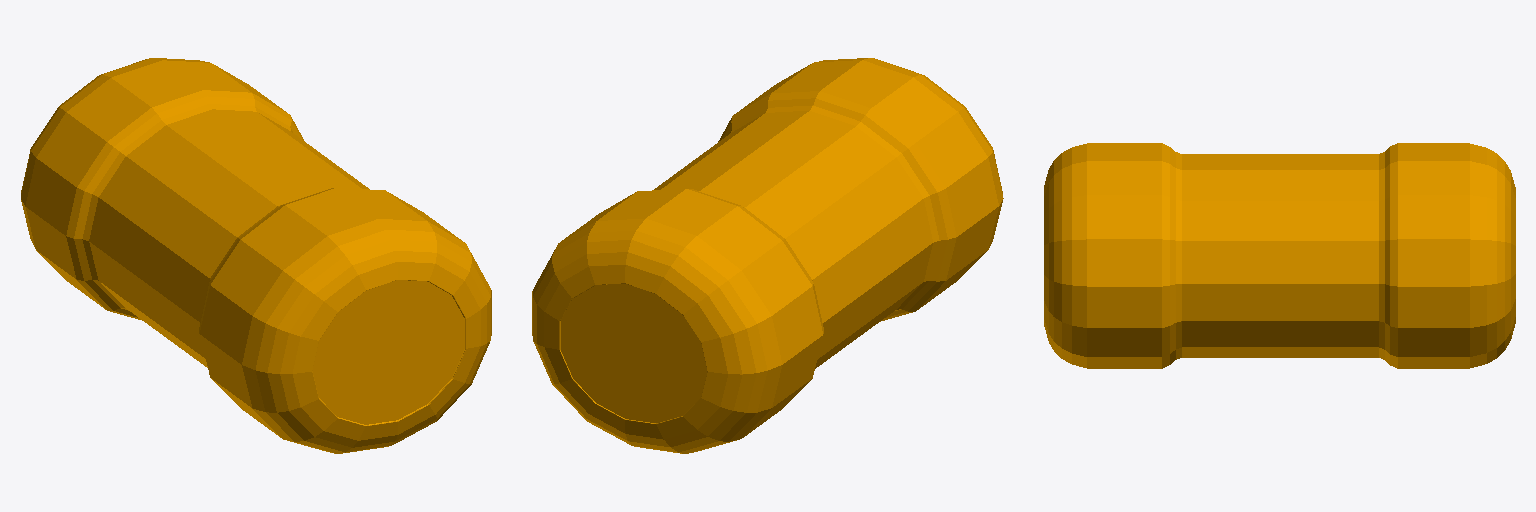
URDF robot description (mesh_object):
<robot name="mesh_object">
            <link name="base">
                <visual>
                    <geometry>
                        <mesh filename="bandage_4_v000.obj" scale="1 1 1" />
                    </geometry>
                </visual>
                <collision>
                    <geometry>
                        <mesh filename="bandage_4_v000.obj" scale="1 1 1" />
                    </geometry>
                </collision>
                <inertial>
                    <origin xyz="0.000000 0.000000 0.063231" rpy="0 0 0" />
                    <mass value="0.500000" />
                    <inertia ixx="0.01" iyy="0.01" izz="0.01" ixy="0" ixz="0" iyz="0" />
                </inertial>
            </link>
            </robot>

--- Render facts (derived) ---
The picture shows the robot from 3 angles, left to right: view 1: azimuth 30°, elevation 25°; view 2: azimuth 150°, elevation 25°; view 3: azimuth 270°, elevation 25°; orthographic projection.
Robot: mesh_object — 1 links, 0 joints (none); root link base; default pose: every joint at zero.
Links seen in each view (by area): view 1: base; view 2: base; view 3: base.
Link boxes in pixels (x1,y1,x2,y2): base: (21,58,491,453); base: (532,58,1003,453); base: (1044,143,1515,368).
Bounding box of the posed robot: 0.0541 × 0.102 × 0.0476 m (x, y, z).
Meshes: 1 distinct files referenced, 1 mesh visuals loaded (1 OBJ).
